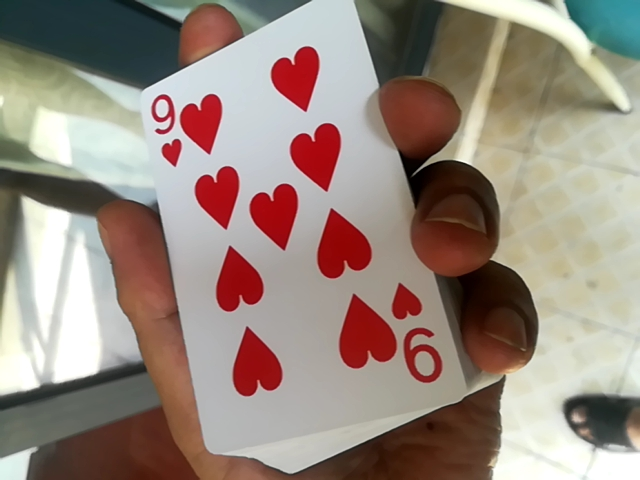hx 9: (108, 7, 438, 453)
